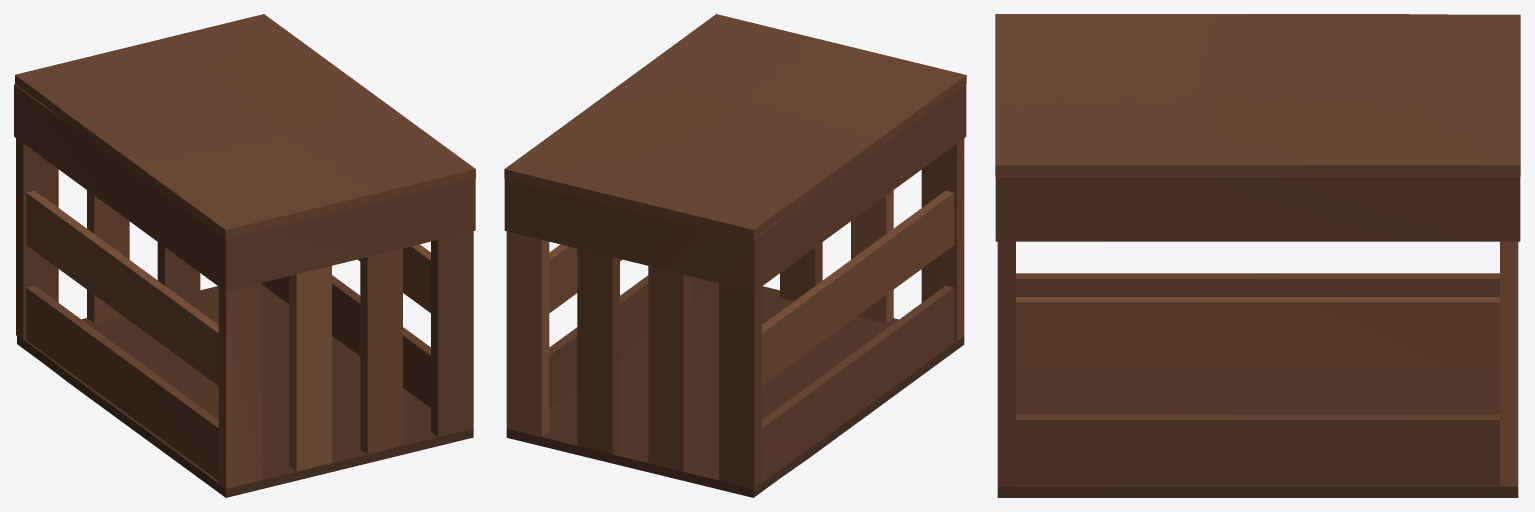
File: Small Cherry Crate Closed.fbx
3 views of the same model, side by side, from view 1: azimuth 30°, elevation 25°; view 2: azimuth 150°, elevation 25°; view 3: azimuth 270°, elevation 25° (orthographic). The views are drawn at different scales.
Visible parts, largest first — view 1: Small Cherry Crate Closed; view 2: Small Cherry Crate Closed; view 3: Small Cherry Crate Closed.
Boxes of the visible parts, x1=… form: Small Cherry Crate Closed: x1=14, y1=14, x2=475, y2=497; Small Cherry Crate Closed: x1=504, y1=14, x2=966, y2=497; Small Cherry Crate Closed: x1=995, y1=14, x2=1520, y2=497.
Size of the model in its own units: 143 by 204 by 139.
1 material, 1 textured.
